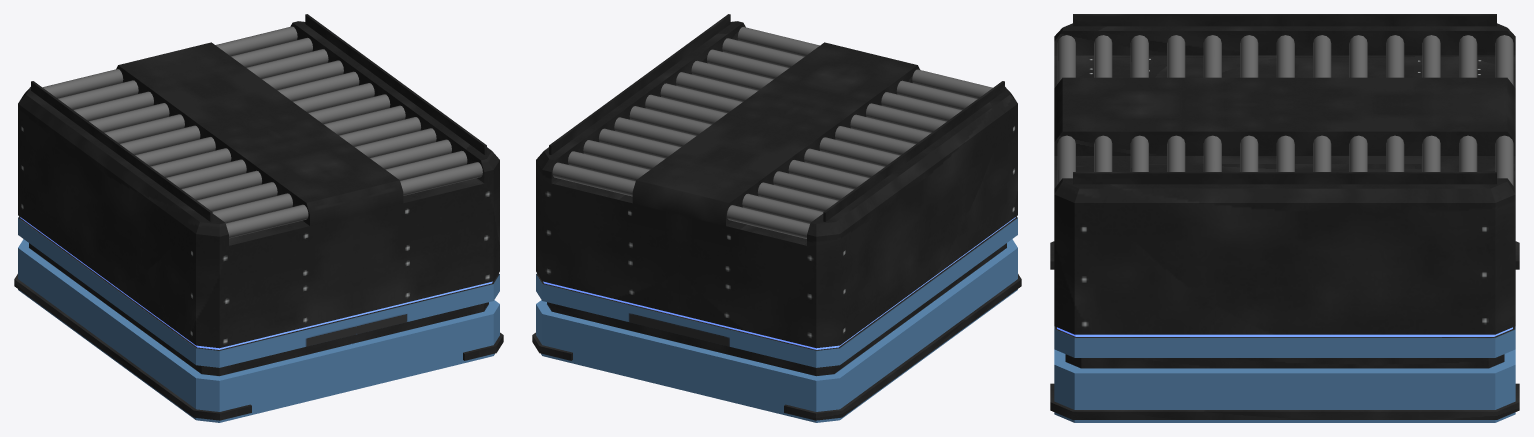
The model's file is amr.glb.
3 views of the same model, side by side, from view 1: azimuth 30°, elevation 25°; view 2: azimuth 150°, elevation 25°; view 3: azimuth 270°, elevation 25° (orthographic). The views are drawn at different scales.
Parts seen in each view (by area): view 1: AMR; view 2: AMR; view 3: AMR.
Part boxes in pixels (x1,y1,x2,y2): AMR: (14,14,503,422); AMR: (532,14,1021,422); AMR: (1050,14,1519,422).
Bounding box in the file's own units: 1.66 × 1.05 × 1.85.
Materials: 2 (1 with a texture image).
